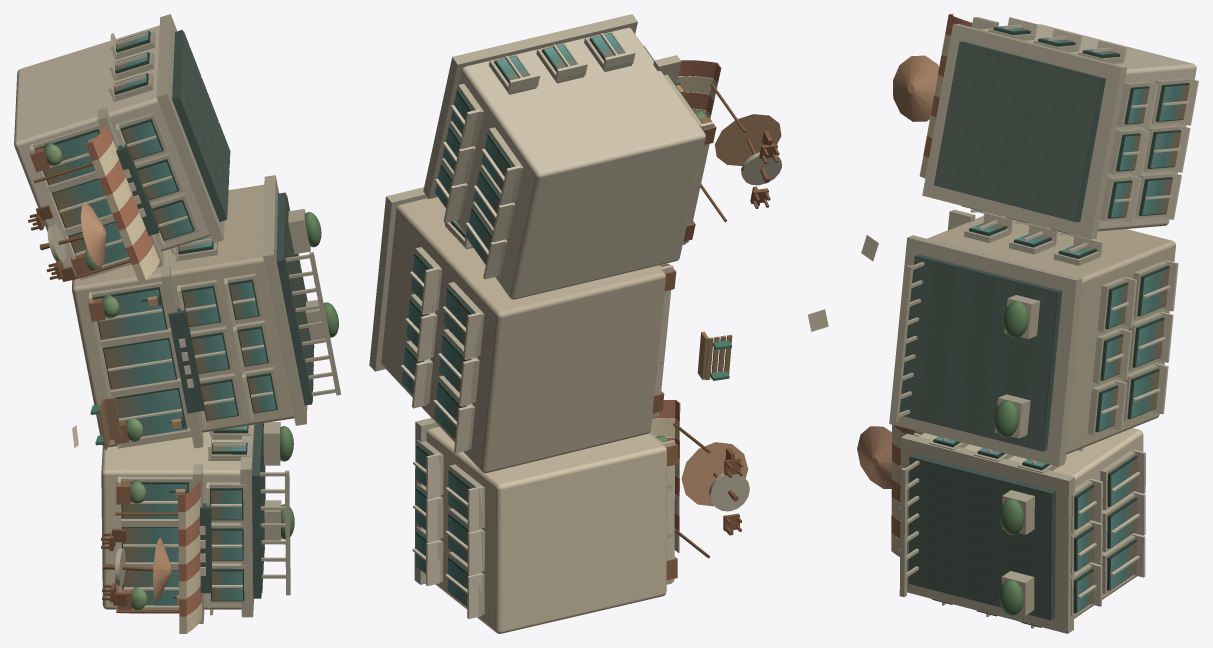
Rendered from cafe.glb.
3 renders of one model, left to right at view 1: azimuth 30°, elevation 25°; view 2: azimuth 150°, elevation 25°; view 3: azimuth 270°, elevation 25°, orthographic. The views are drawn at different scales.
Parts seen in each view (by area): view 1: cafe (×5); view 2: cafe (×4); view 3: cafe (×3).
Part boxes in pixels (x1,y1,x2,y2): cafe (×5): [14, 14, 340, 633]; cafe (×4): [369, 14, 781, 633]; cafe (×3): [857, 14, 1198, 633].
Size of the model in its own units: 0.4893 by 0.7402 by 0.4194.
